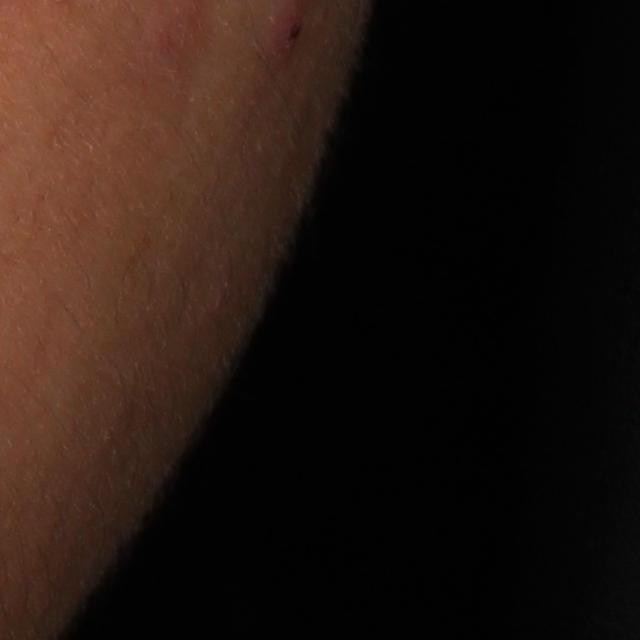papule: (262, 1, 307, 70)
